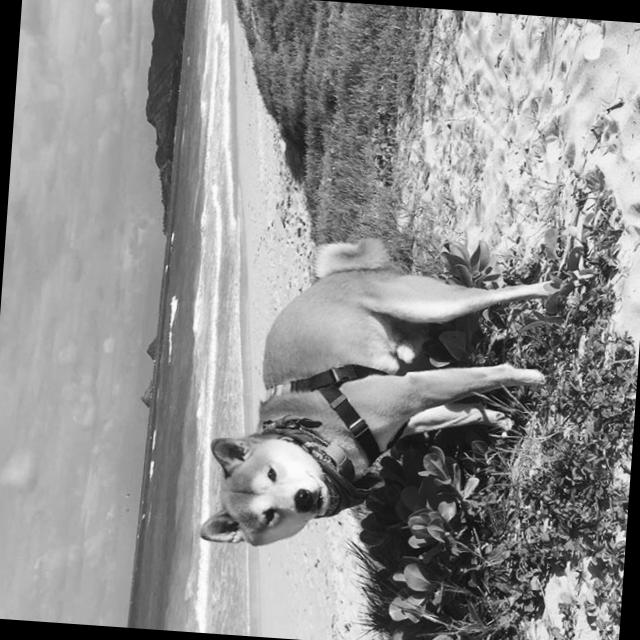squatting: (190, 213, 574, 587)
